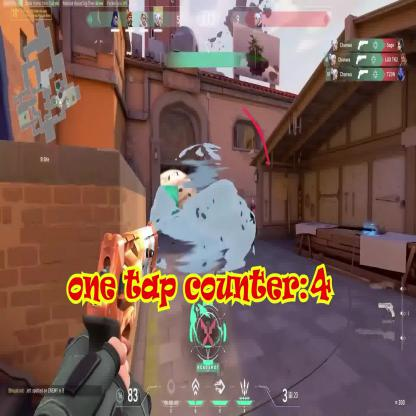enemy: (249, 197, 256, 237)
enemy_head: (251, 198, 254, 206)
